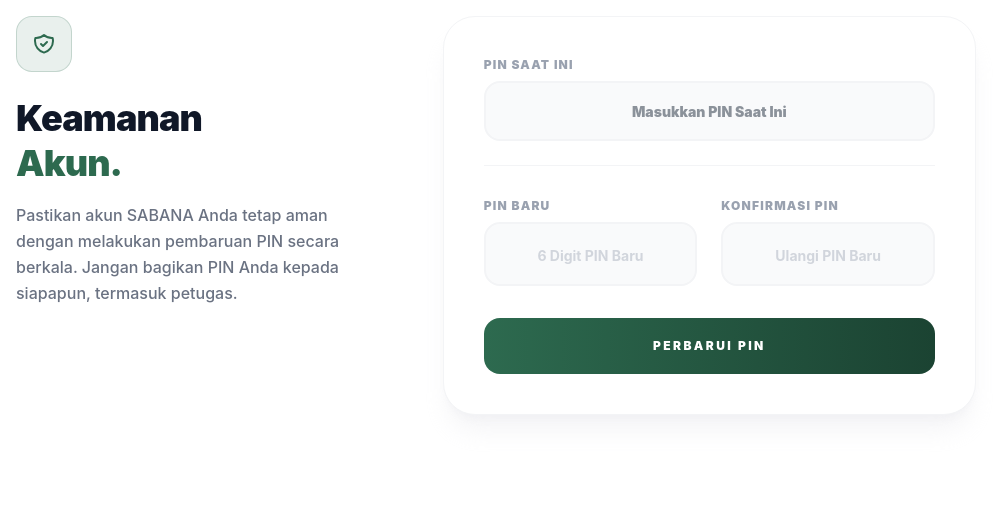
Test: Security.vue - Professional QA Test Suite › Error Handling › [ERR-05] Error network
The width and height of the screenshot is (993, 524).
Type "111111" into the password field with id "input-current-pin" at (709, 111), box [484,81,935,141]
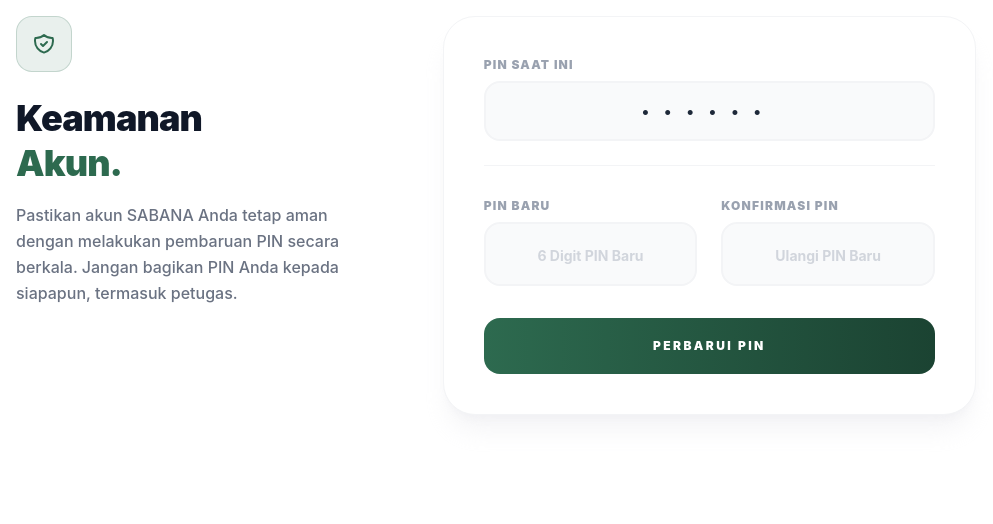
Type "222222" into the password field with id "input-new-pin" at (591, 254), box [484,222,697,286]
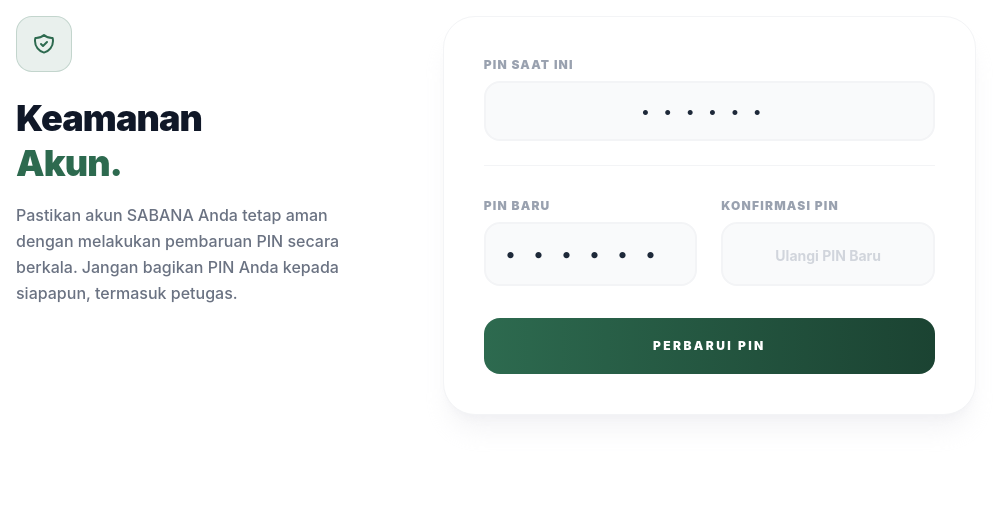
Type "222222" into the password field with id "input-confirm-pin" at (828, 254), box [721,222,935,286]
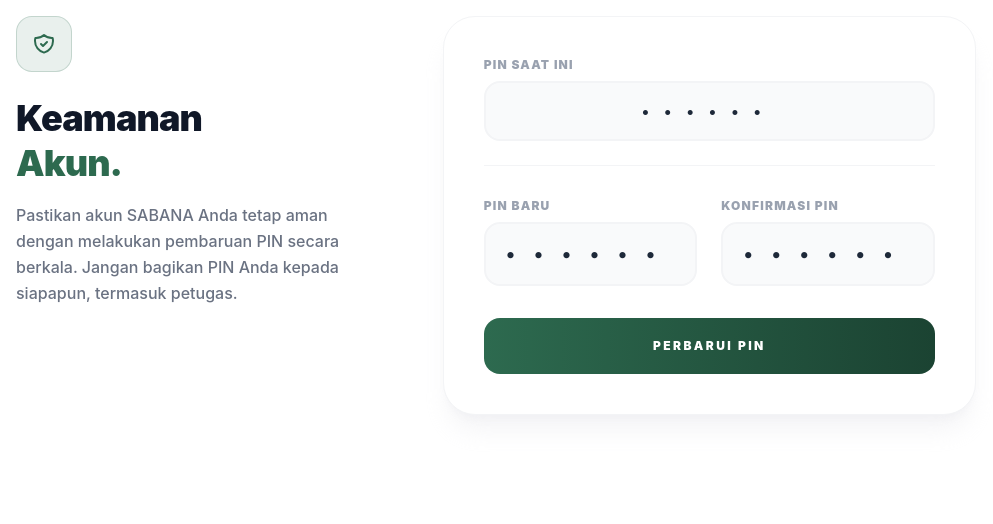
Submit the form, box [484,57,935,374]
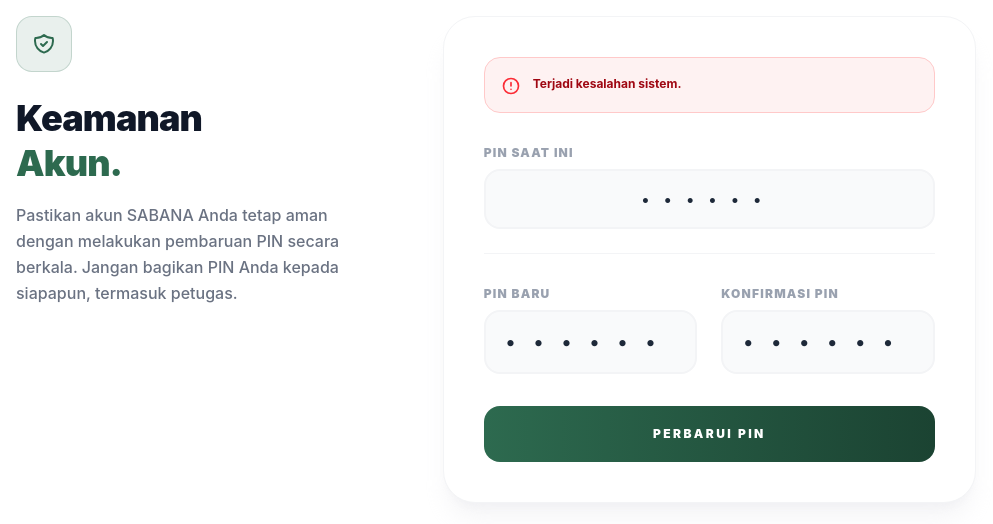
Check: the text "Terjadi kesalahan sistem." is shown, box [533,74,682,94]
